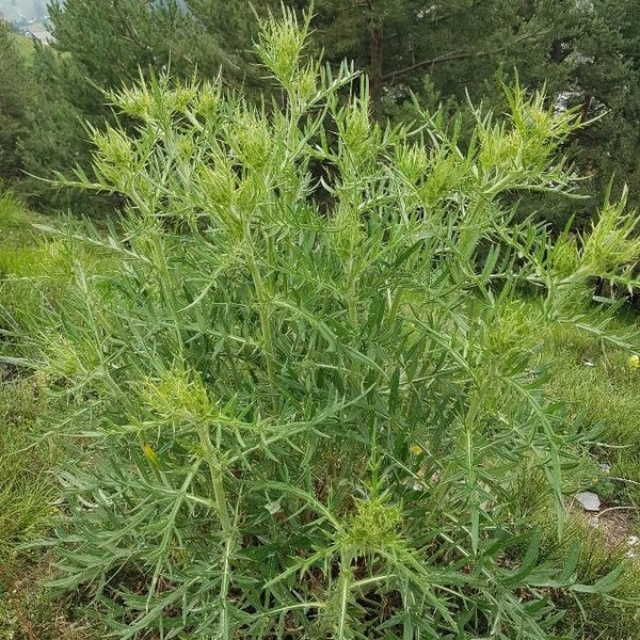obstacle: (97, 73, 557, 589)
